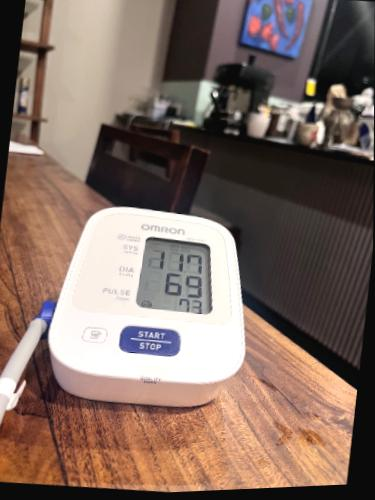bpm: (132, 234, 220, 314)
